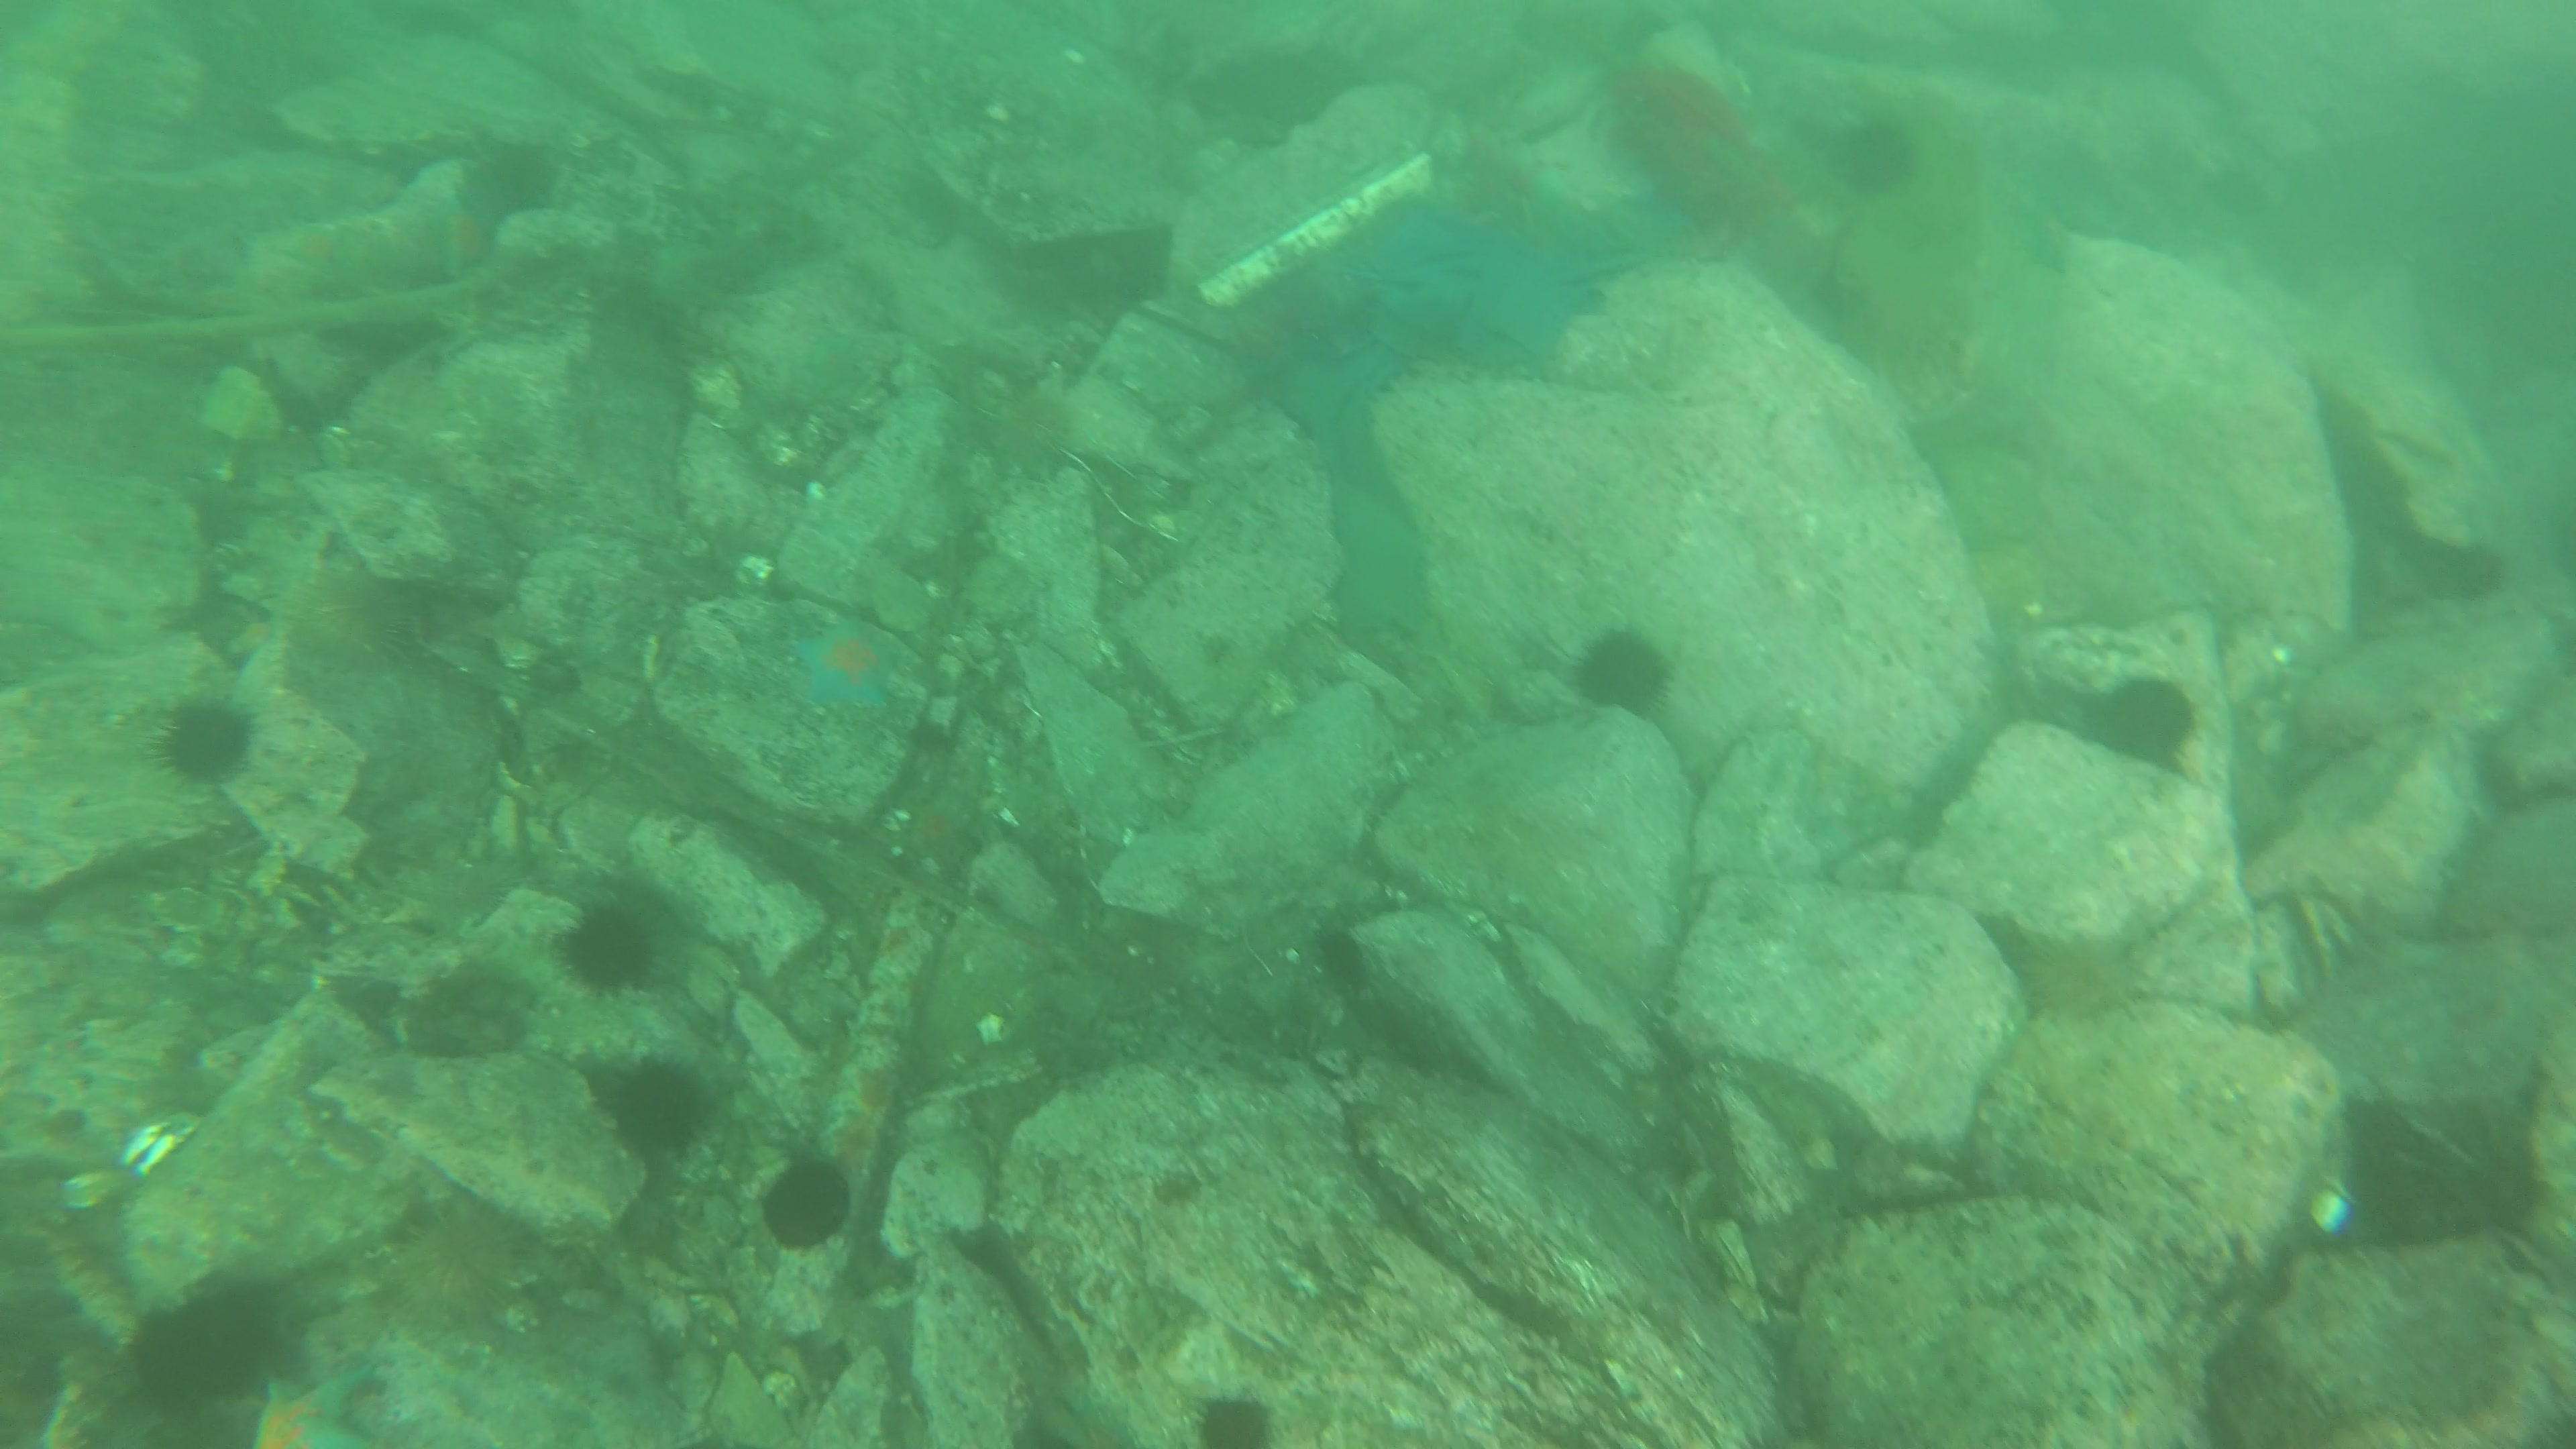echinus: (384, 1207, 548, 1334), (133, 1295, 269, 1415), (587, 1056, 722, 1171), (752, 1141, 870, 1261), (142, 690, 269, 796), (2013, 929, 2151, 1021), (543, 904, 672, 996), (1562, 628, 1681, 725), (2097, 672, 2204, 773), (970, 384, 1079, 479), (2410, 527, 2512, 614), (1184, 1376, 1292, 1449), (1826, 115, 1913, 200)
starfish: (228, 1359, 395, 1449), (786, 609, 893, 713), (262, 209, 372, 311), (416, 188, 511, 281)
